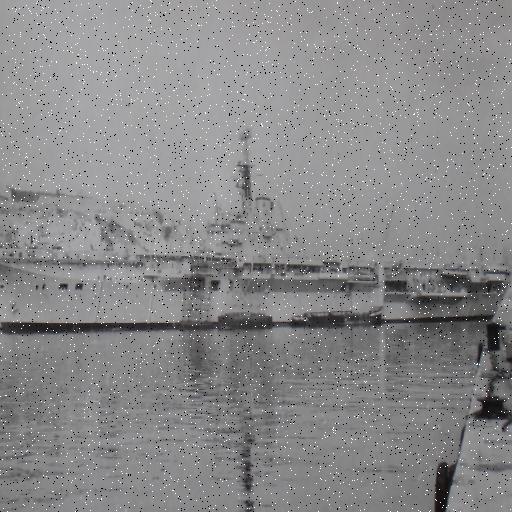Portanaves: (1, 114, 512, 339)
